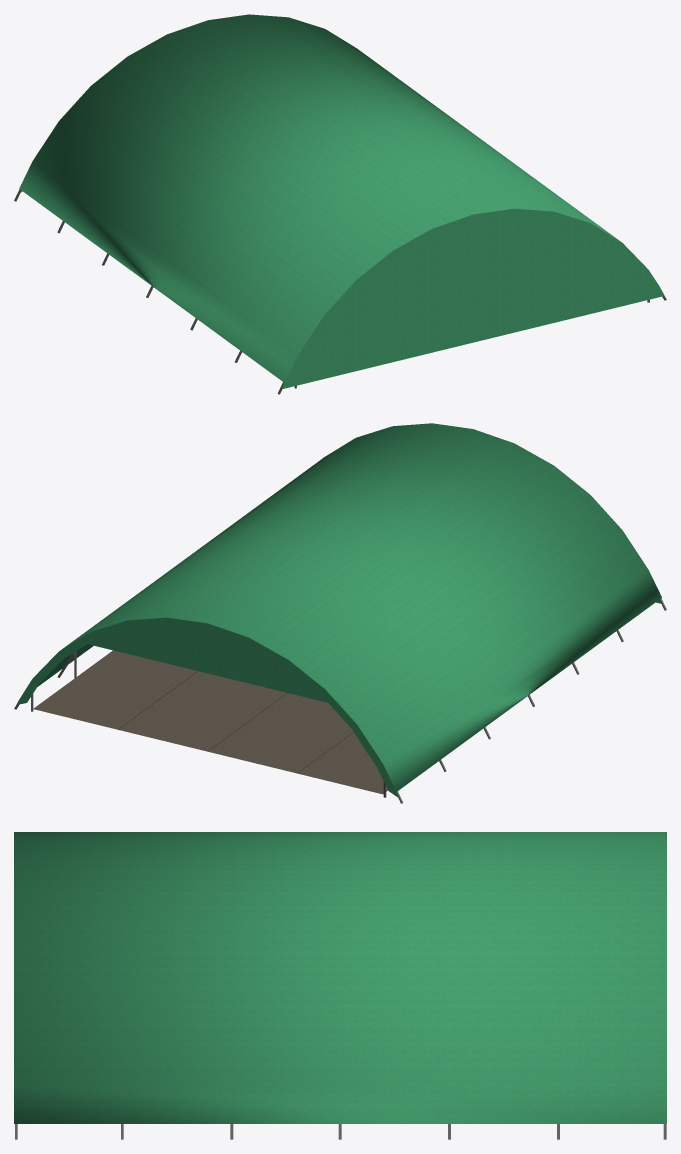
File: hangar-arched-fabric-aqua-25x30-cbj_LOD01.gltf
The picture shows the model from 3 angles, top to bottom: view 1: azimuth 30°, elevation 25°; view 2: azimuth 150°, elevation 25°; view 3: azimuth 270°, elevation 25°; orthographic projection. The views are drawn at different scales.
Visible parts, largest first — view 1: hanger01; view 2: hanger01; view 3: hanger01.
Part boxes in pixels (x1,y1,x2,y2): hanger01: [14, 14, 666, 394]; hanger01: [14, 423, 666, 803]; hanger01: [14, 832, 666, 1139].
Size of the model in its own units: 25.33 by 8.35 by 30.
